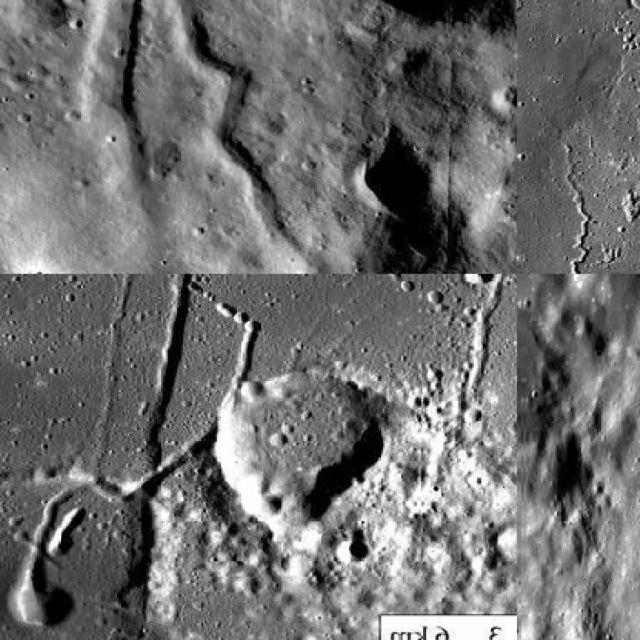rille: (12, 302, 263, 632), (144, 0, 323, 272), (130, 274, 218, 618), (85, 274, 206, 474), (78, 0, 174, 177), (443, 274, 515, 420), (562, 148, 638, 272)
